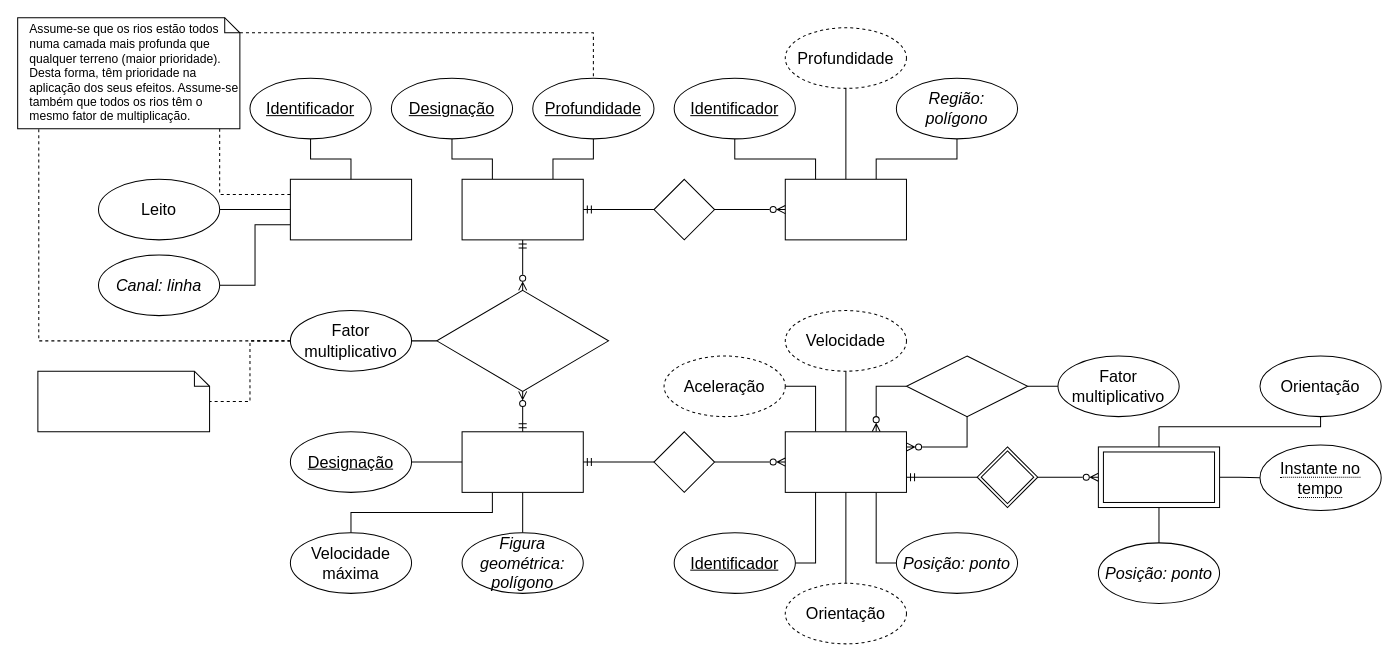
Image size: 1399x662. Some labels were removed from this diagram. The centre of each missing label's shape, as x and y in pixels:
Histórico de posições: the point at 1158,477
Objeto móvel: the point at 845,461
Para todas as associações que não existam é assumido fator = rio.fator: the point at 123,401
persegue: the point at 966,386
Rio: the point at 350,209
tem movimento dependente de: the point at 522,340
Terreno: the point at 845,209
Tipo de objeto: the point at 522,461
Tipo de terreno: the point at 522,209
